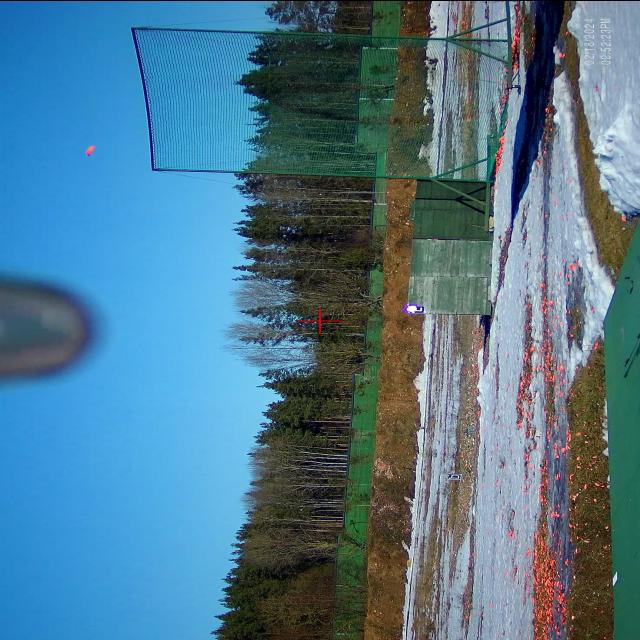entire: (75, 140, 104, 162)
